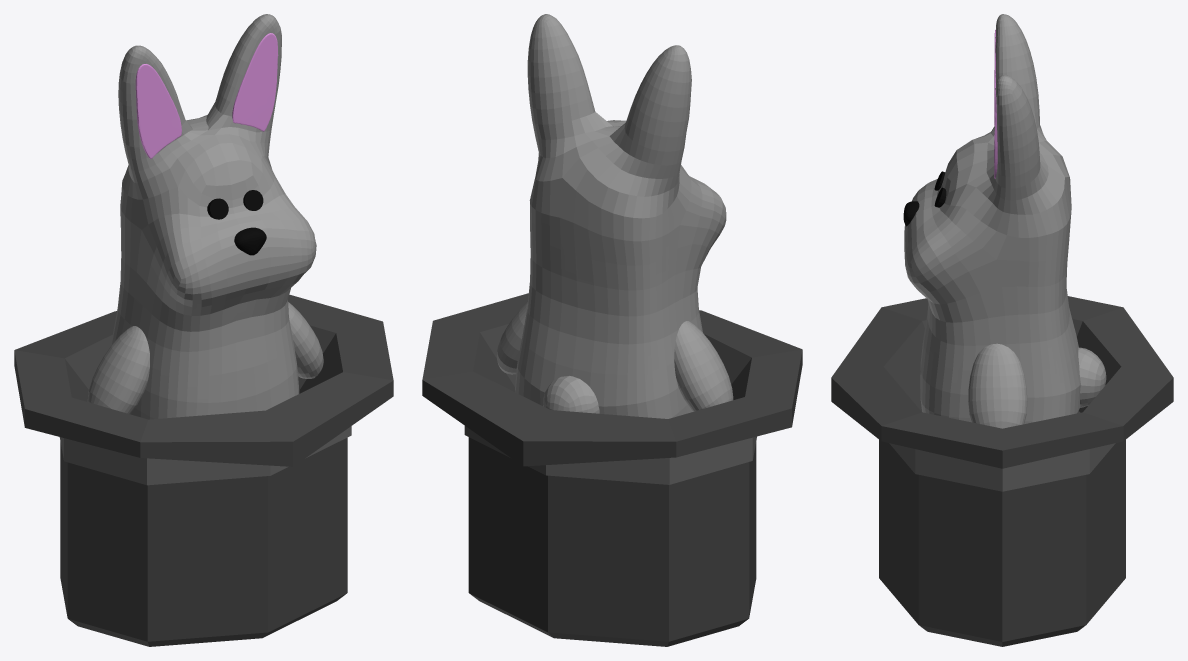
Rendered from patrick.fbx.
The picture shows the model from 3 angles, left to right: view 1: azimuth 30°, elevation 25°; view 2: azimuth 150°, elevation 25°; view 3: azimuth 270°, elevation 25°; orthographic projection. The views are drawn at different scales.
Visible parts, largest first — view 1: Cylinder, Hare Body; view 2: Cylinder, Hare Body; view 3: Cylinder, Hare Body.
Boxes of the visible parts, bbox=[...] form: Cylinder: bbox=[14, 294, 393, 646]; Hare Body: bbox=[87, 14, 323, 419]; Cylinder: bbox=[422, 293, 802, 646]; Hare Body: bbox=[496, 14, 733, 418]; Cylinder: bbox=[831, 296, 1173, 646]; Hare Body: bbox=[903, 14, 1106, 428].
Size of the model in its own units: 117 by 176 by 101.
